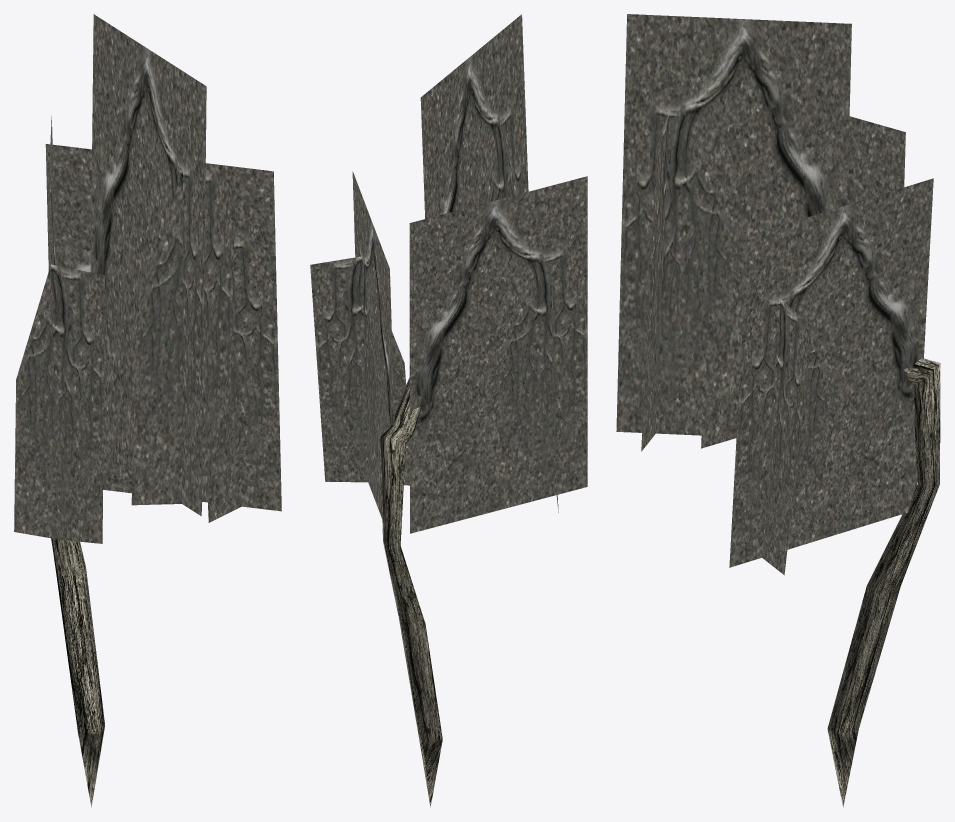
Rendered from shrb_dath_glingi_l0.fbx.
The picture shows the model from 3 angles, left to right: view 1: azimuth 30°, elevation 25°; view 2: azimuth 150°, elevation 25°; view 3: azimuth 270°, elevation 25°; orthographic projection. The views are drawn at different scales.
Parts seen in each view (by area): view 1: mesh_node; view 2: mesh_node; view 3: mesh_node.
Part boxes in pixels (box(x1,y1,x2,y2)): mesh_node: box(14, 14, 281, 807); mesh_node: box(310, 14, 587, 807); mesh_node: box(616, 14, 940, 807).
Size of the model in its own units: 2.12 by 6.26 by 2.31.
